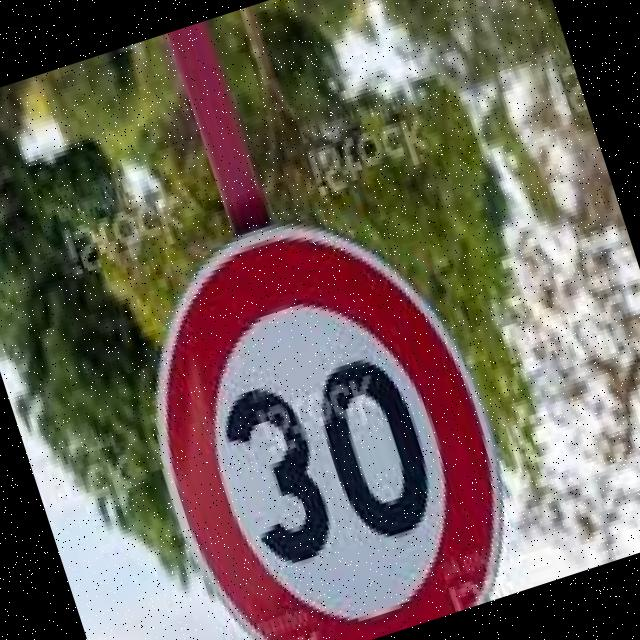speed_limit_30: (94, 178, 549, 640)
